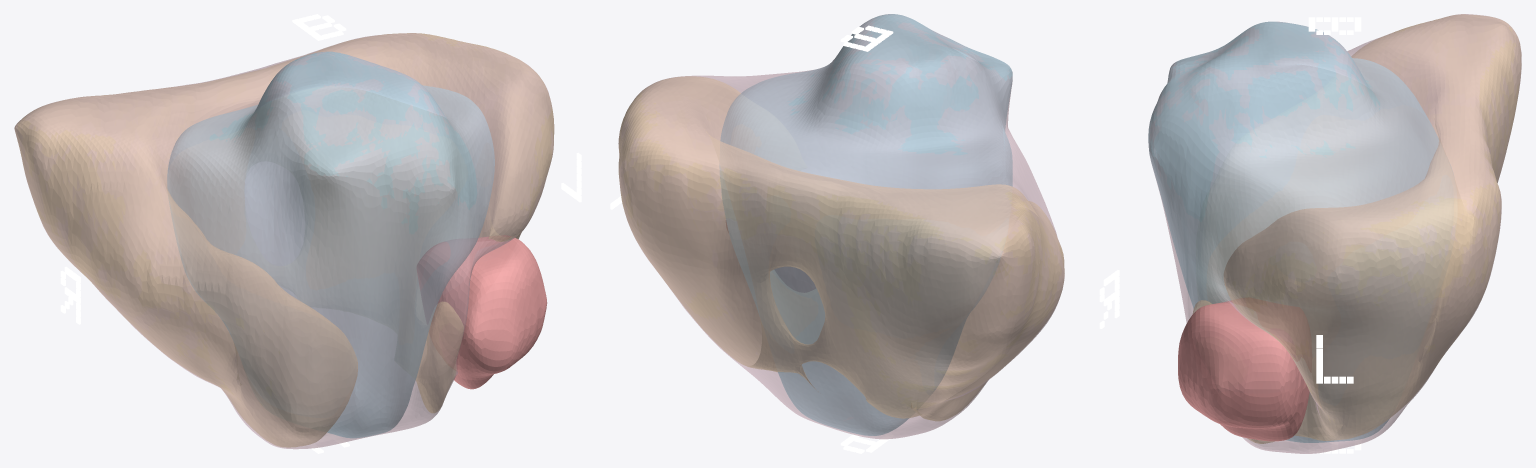
The picture shows the model from 3 angles, left to right: view 1: azimuth 30°, elevation 25°; view 2: azimuth 150°, elevation 25°; view 3: azimuth 270°, elevation 25°; orthographic projection. The views are drawn at different scales.
Visible parts, largest first — view 1: prostate_gland, peripheral_zone, transition_zone, lesion_01, pv_ar_marker_B, pv_ar_marker_R; view 2: prostate_gland, peripheral_zone, transition_zone, pv_ar_marker_B, pv_ar_marker_R, lesion_01, pv_ar_marker_A; view 3: prostate_gland, peripheral_zone, transition_zone, lesion_01, pv_ar_marker_B, pv_ar_marker_L.
Part boxes in pixels (box(x1,y1,x2,y2)): prostate_gland: box(14, 33, 554, 449); peripheral_zone: box(15, 33, 554, 447); transition_zone: box(167, 51, 494, 437); lesion_01: box(417, 235, 547, 389); pv_ar_marker_B: box(292, 14, 346, 40); pv_ar_marker_R: box(60, 266, 80, 324); prostate_gland: box(618, 14, 1064, 439); peripheral_zone: box(618, 76, 1064, 420); transition_zone: box(719, 14, 1012, 435); pv_ar_marker_B: box(840, 25, 893, 51); pv_ar_marker_R: box(1099, 270, 1119, 328); lesion_01: box(726, 222, 815, 292); pv_ar_marker_A: box(840, 433, 892, 453); prostate_gland: box(1148, 14, 1521, 453); peripheral_zone: box(1193, 14, 1521, 443); transition_zone: box(1148, 21, 1451, 442); lesion_01: box(1178, 298, 1311, 441); pv_ar_marker_B: box(1308, 17, 1361, 34); pv_ar_marker_L: box(1316, 335, 1353, 383).
Size of the model in its own units: 0.0472 by 0.0372 by 0.0299.
